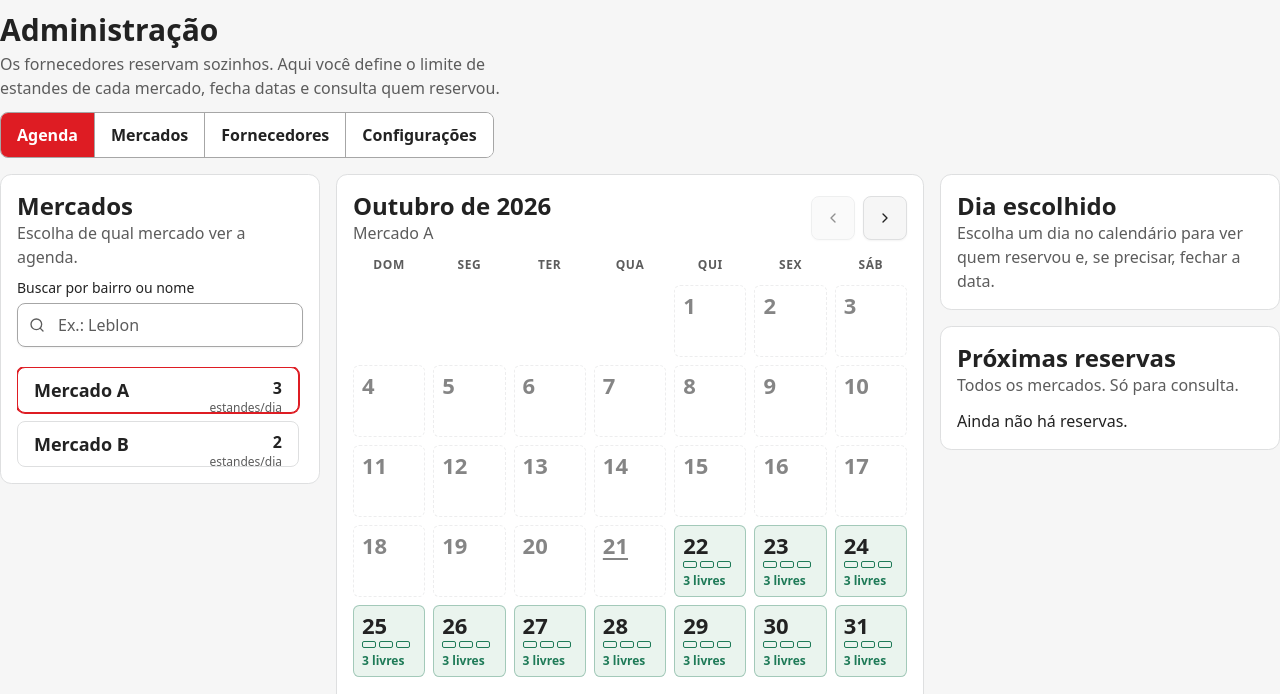
Test case: Agenda › um dia sem reservas diz isso
What coordinates should you click on to do the following:
click the button with aria-label "Sábado, 24 de outubro"
I would click on:
 (871, 561)
Its box is [835,525,907,597].
(page scrolled)
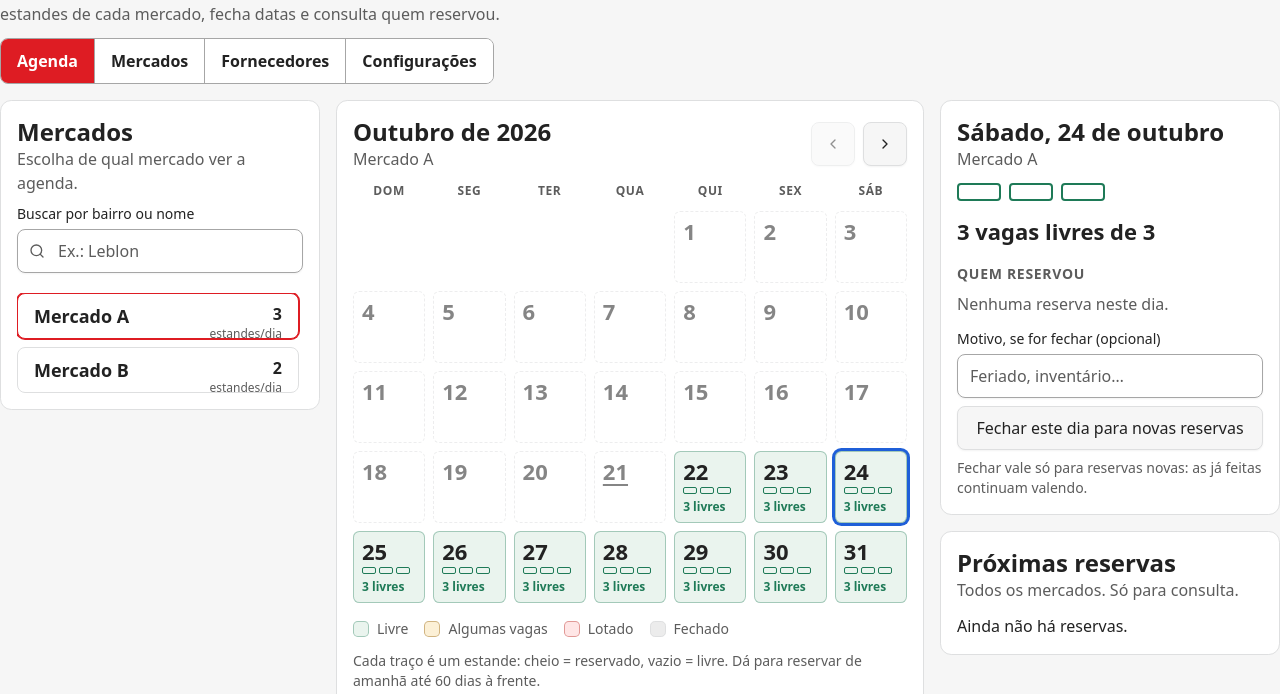
Check: the text "Ainda não há reservas." is shown, box [957,615,1128,637]
Check: the text "Nenhuma reserva neste dia." is shown, box [957,293,1169,315]
